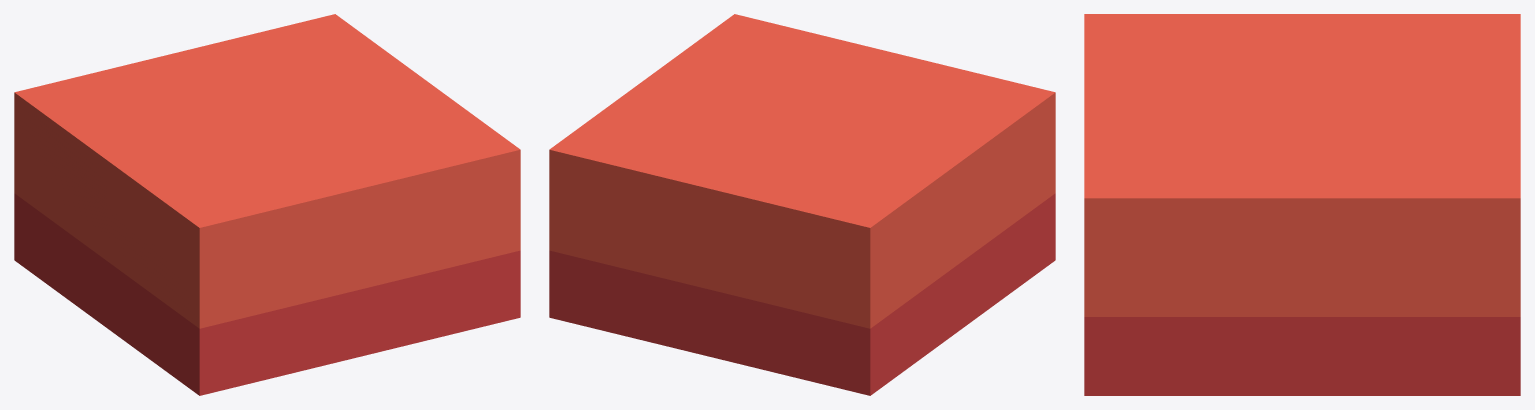
Rendered from building_block5.obj.
3 renders of one model, left to right at view 1: azimuth 30°, elevation 25°; view 2: azimuth 150°, elevation 25°; view 3: azimuth 270°, elevation 25°, orthographic. The views are drawn at different scales.
Parts seen in each view (by area): view 1: mergedBlocks; view 2: mergedBlocks; view 3: mergedBlocks.
Part boxes in pixels (x1=…): mergedBlocks: x1=14, y1=14, x2=520, y2=395; mergedBlocks: x1=549, y1=14, x2=1055, y2=395; mergedBlocks: x1=1084, y1=14, x2=1520, y2=395.
Bounding box in the file's own units: 1 × 0.5 × 1.
